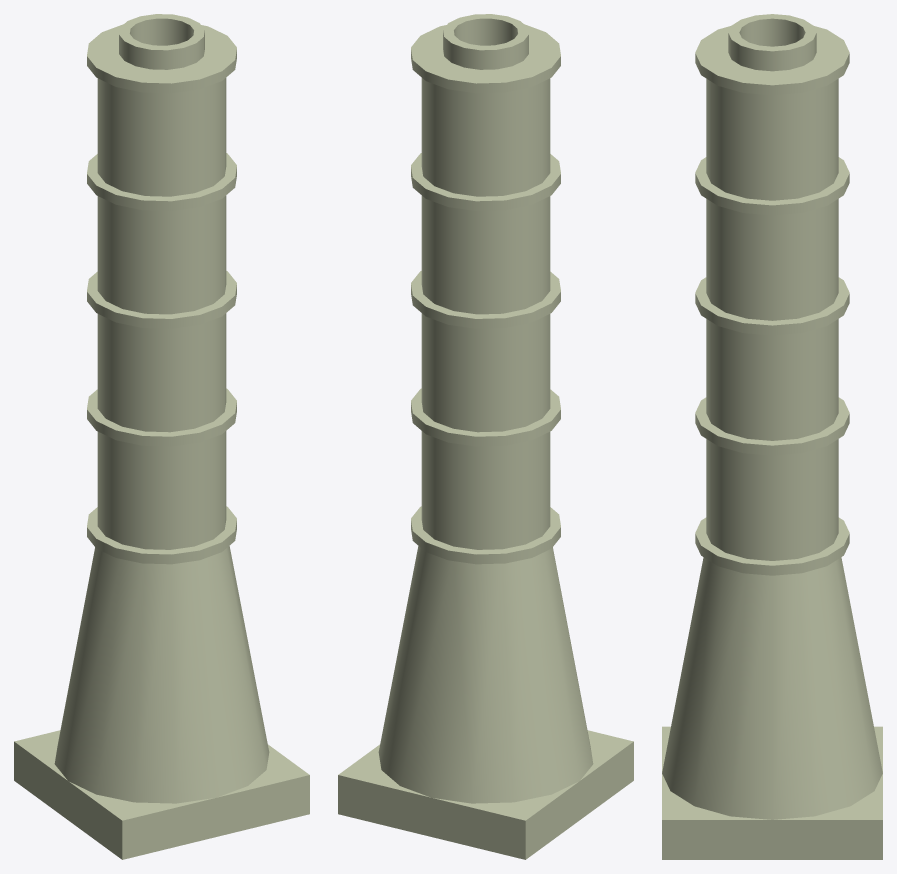
File: tower_small.obj
3 renders of one model, left to right at view 1: azimuth 30°, elevation 25°; view 2: azimuth 150°, elevation 25°; view 3: azimuth 270°, elevation 25°, orthographic. The views are drawn at different scales.
Visible parts, largest first — view 1: Cube_Cube.001; view 2: Cube_Cube.001; view 3: Cube_Cube.001.
Part boxes in pixels (x1,y1,x2,y2): Cube_Cube.001: (14, 14, 309, 859); Cube_Cube.001: (338, 14, 633, 859); Cube_Cube.001: (662, 14, 882, 859).
Size of the model in its own units: 5 by 19.5 by 5.
